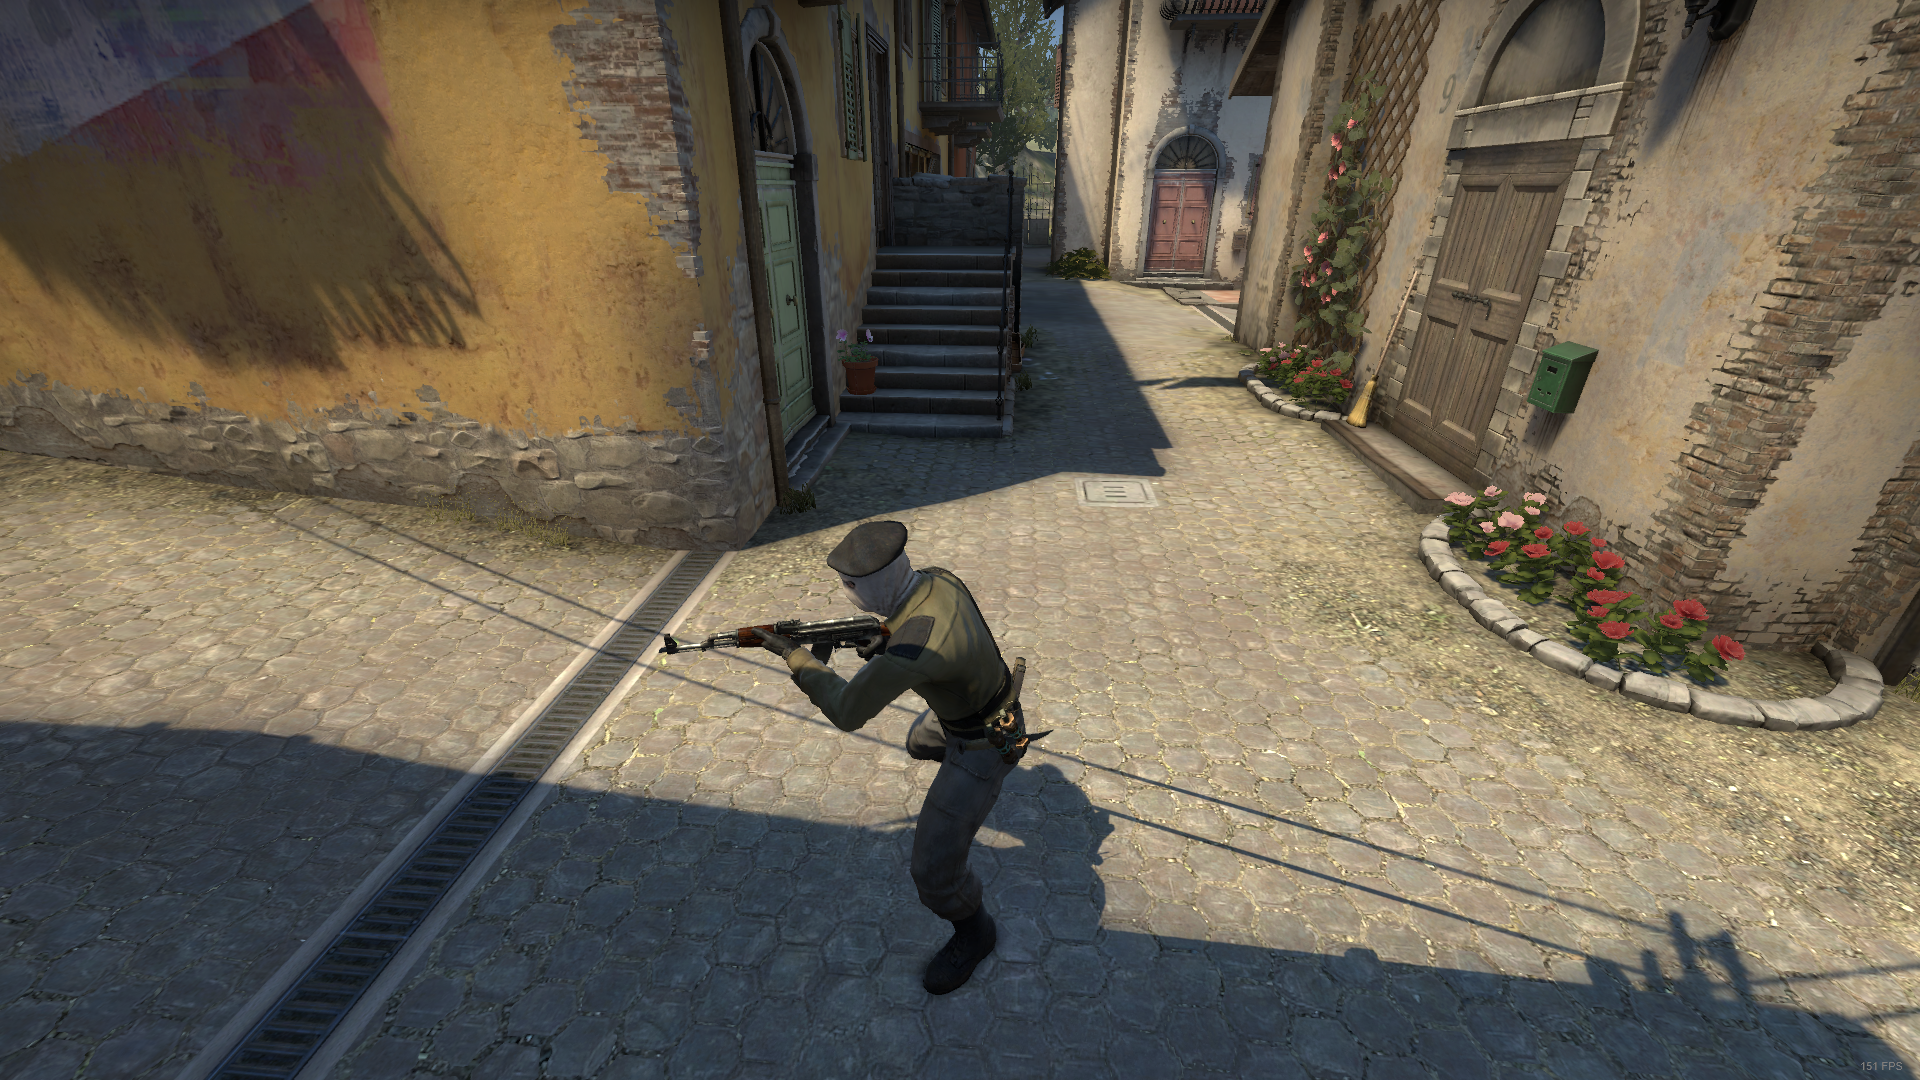t: (757, 521, 1030, 996)
